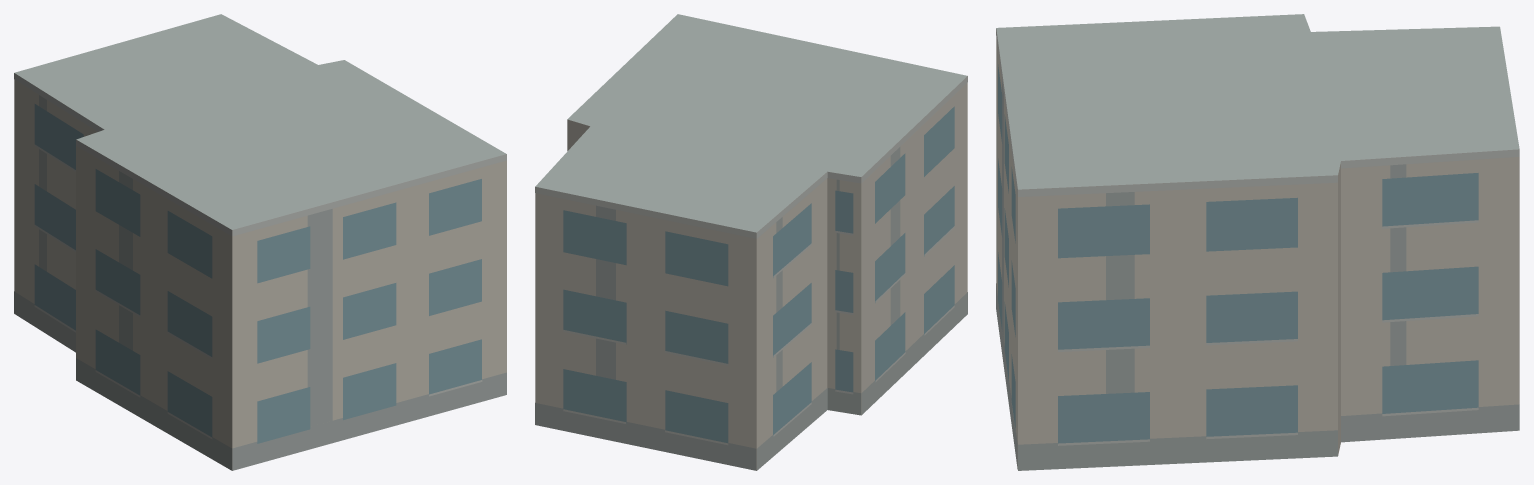
Rendered from survey-upis-32634318.glb.
3 renders of one model, left to right at view 1: azimuth 30°, elevation 25°; view 2: azimuth 150°, elevation 25°; view 3: azimuth 270°, elevation 25°, orthographic. The views are drawn at different scales.
Parts seen in each view (by area): view 1: survey-upis-32634318.tmp; view 2: survey-upis-32634318.tmp; view 3: survey-upis-32634318.tmp.
Boxes of the visible parts, left/top/right/bottom form: survey-upis-32634318.tmp: left=14, top=14, right=506, bottom=470; survey-upis-32634318.tmp: left=535, top=14, right=967, bottom=470; survey-upis-32634318.tmp: left=996, top=14, right=1519, bottom=470.
Bounding box in the file's own units: 12.26 × 9.15 × 15.44.
